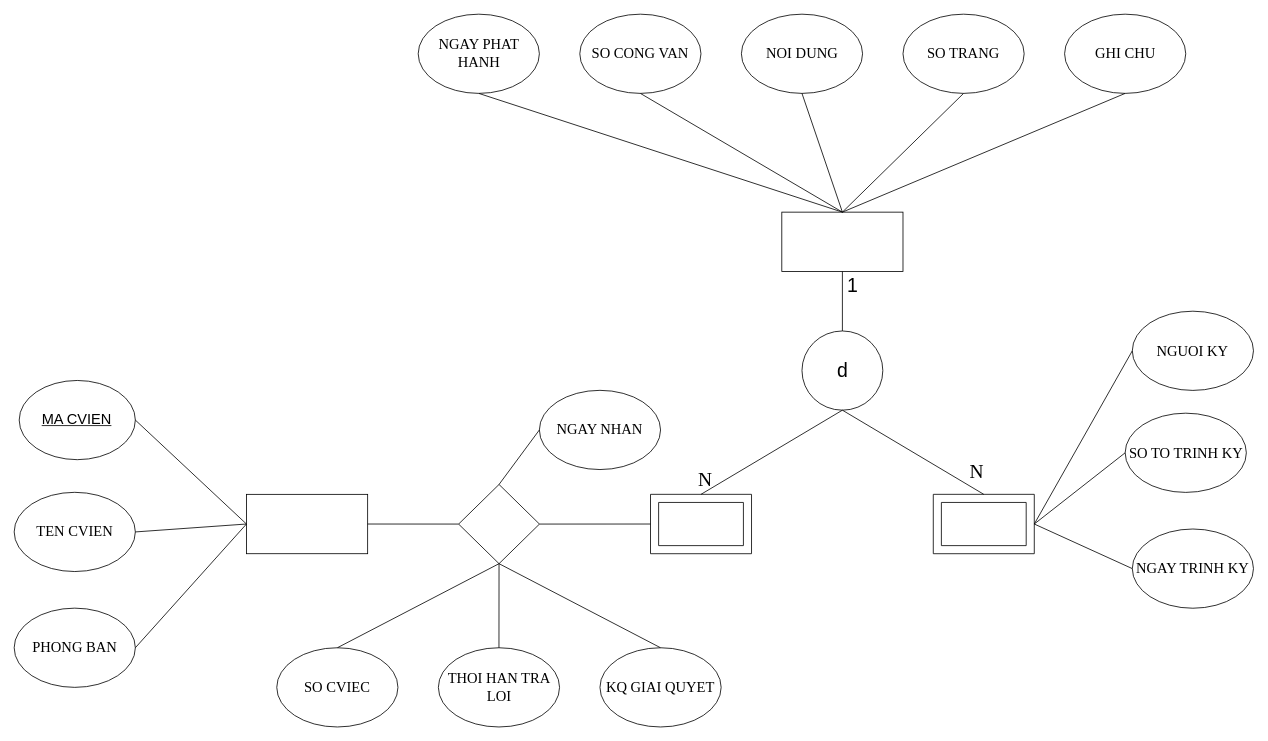
This 1268x741 diagram has some shape labels left out. Each missing label, with the box of its shape:
CHUYEN VIEN: (246, 494, 368, 554)
CONG VAN: (781, 211, 903, 272)
CV-DEN: (650, 494, 752, 554)
CV-DI: (932, 494, 1034, 554)
GIAI QUYET: (458, 484, 539, 564)
